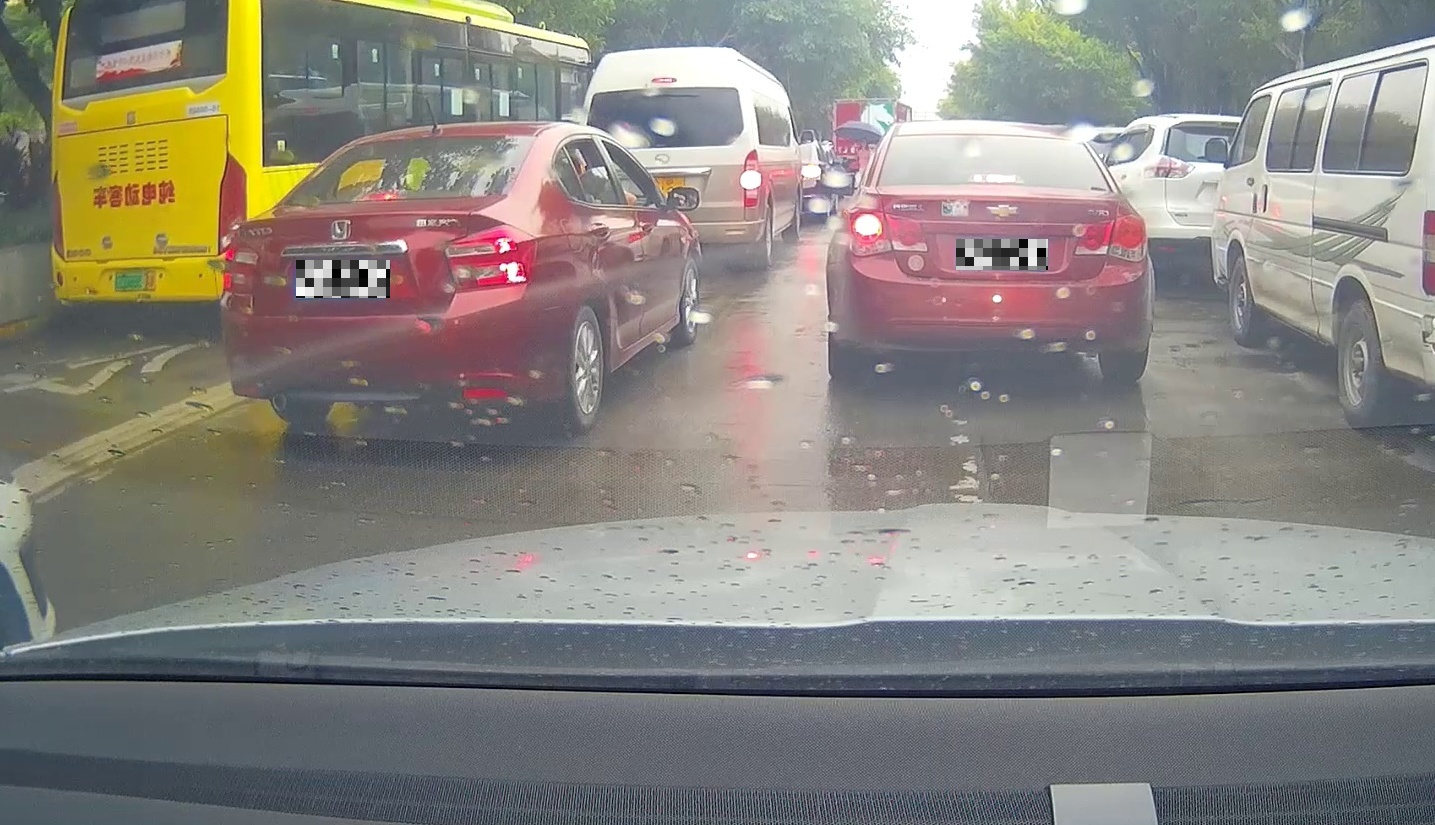L_light: (847, 208, 929, 258), (222, 236, 260, 294)
R_light: (445, 224, 537, 288), (1074, 213, 1149, 261)
T_light: (970, 173, 1023, 185), (360, 190, 407, 199)
day-brake: (219, 122, 540, 431)
day-left: (828, 120, 1156, 382)
plate_1: (296, 260, 390, 298)
plate_2: (956, 239, 1048, 270)
